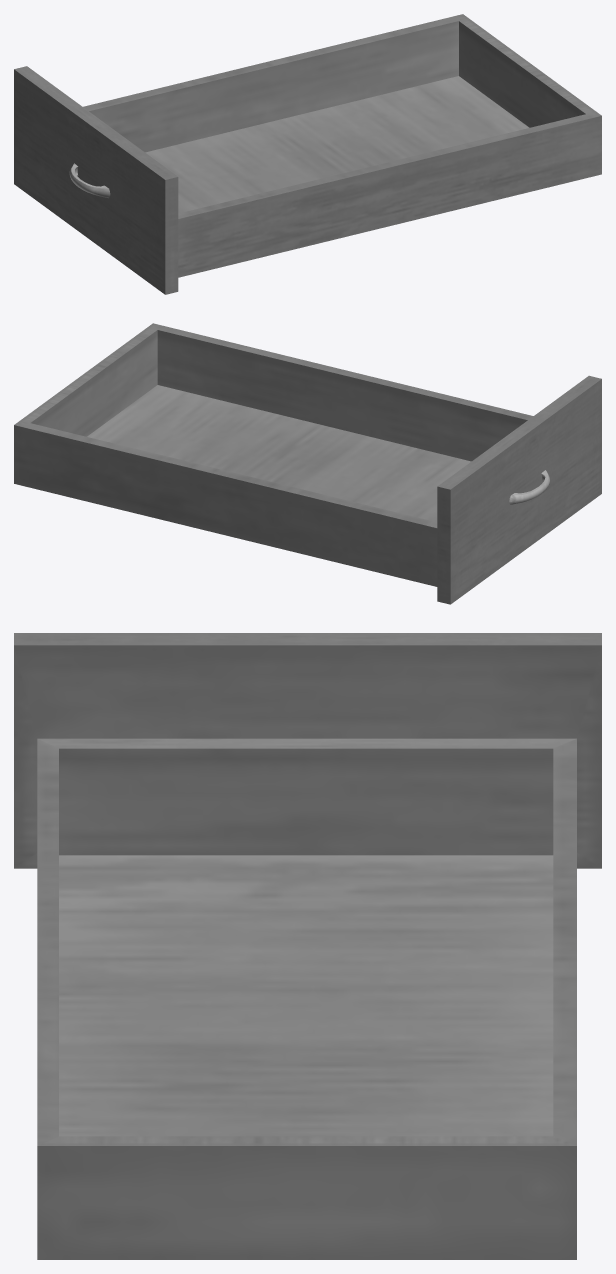
File: SM_WorkingTable_A1_Cab2.fbx
3 views of the same model, one above another, from view 1: azimuth 30°, elevation 25°; view 2: azimuth 150°, elevation 25°; view 3: azimuth 270°, elevation 25° (orthographic). The views are drawn at different scales.
Parts seen in each view (by area): view 1: SM_WorkingTable_A1_Cab2; view 2: SM_WorkingTable_A1_Cab2; view 3: SM_WorkingTable_A1_Cab2.
Boxes of the visible parts, box(x1,y1,x2,y2) form: SM_WorkingTable_A1_Cab2: box(14, 14, 601, 294); SM_WorkingTable_A1_Cab2: box(14, 323, 601, 604); SM_WorkingTable_A1_Cab2: box(14, 633, 601, 1259).
Bounding box in the file's own units: 76.27 × 43.77 × 18.33.
Materials: 1 (1 with a texture image).
